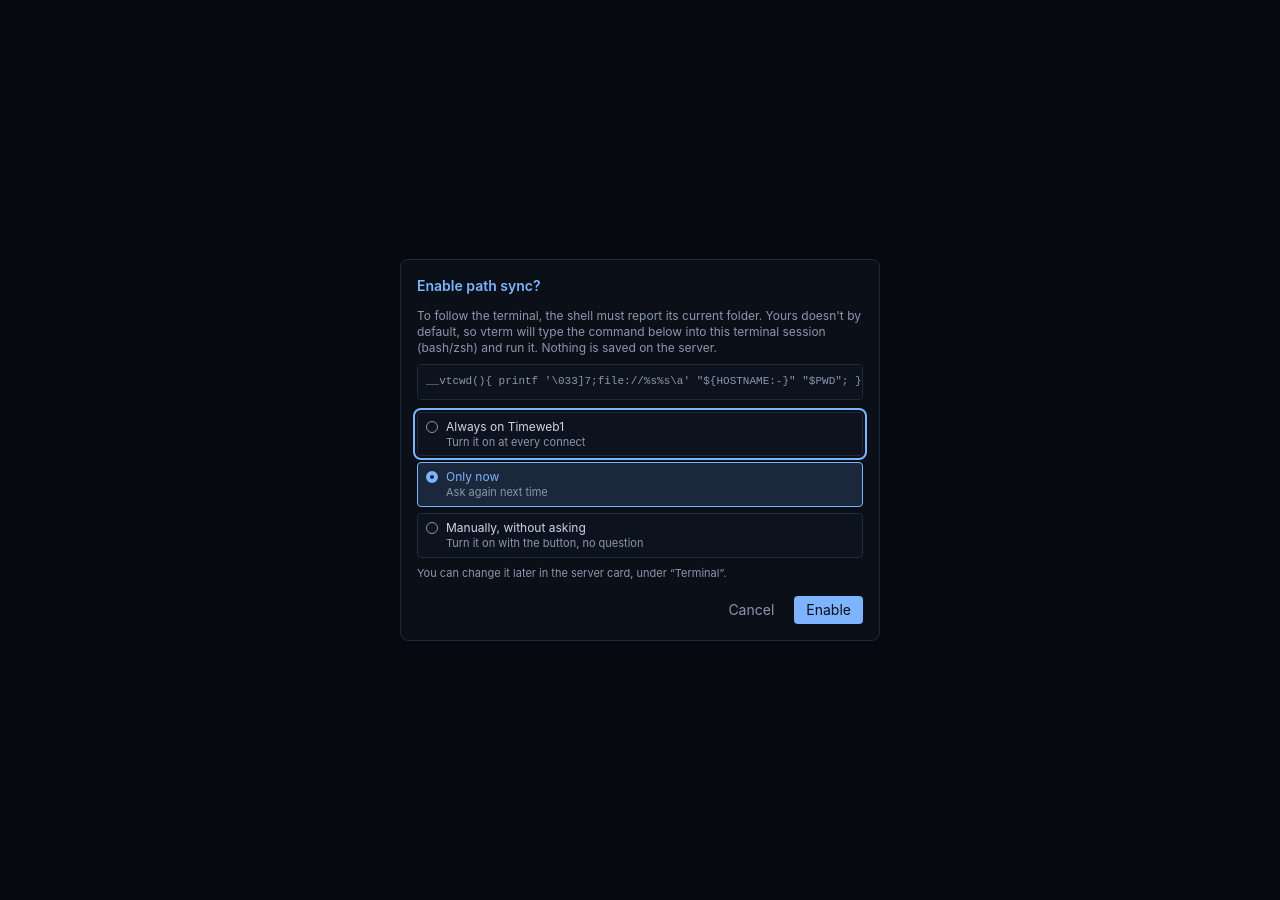
Test: PathSyncDialog › warns on a prod server only for “always”
Click the radio button with test id "path-sync-always". click: (505, 426)
box: [417,412,863,456]
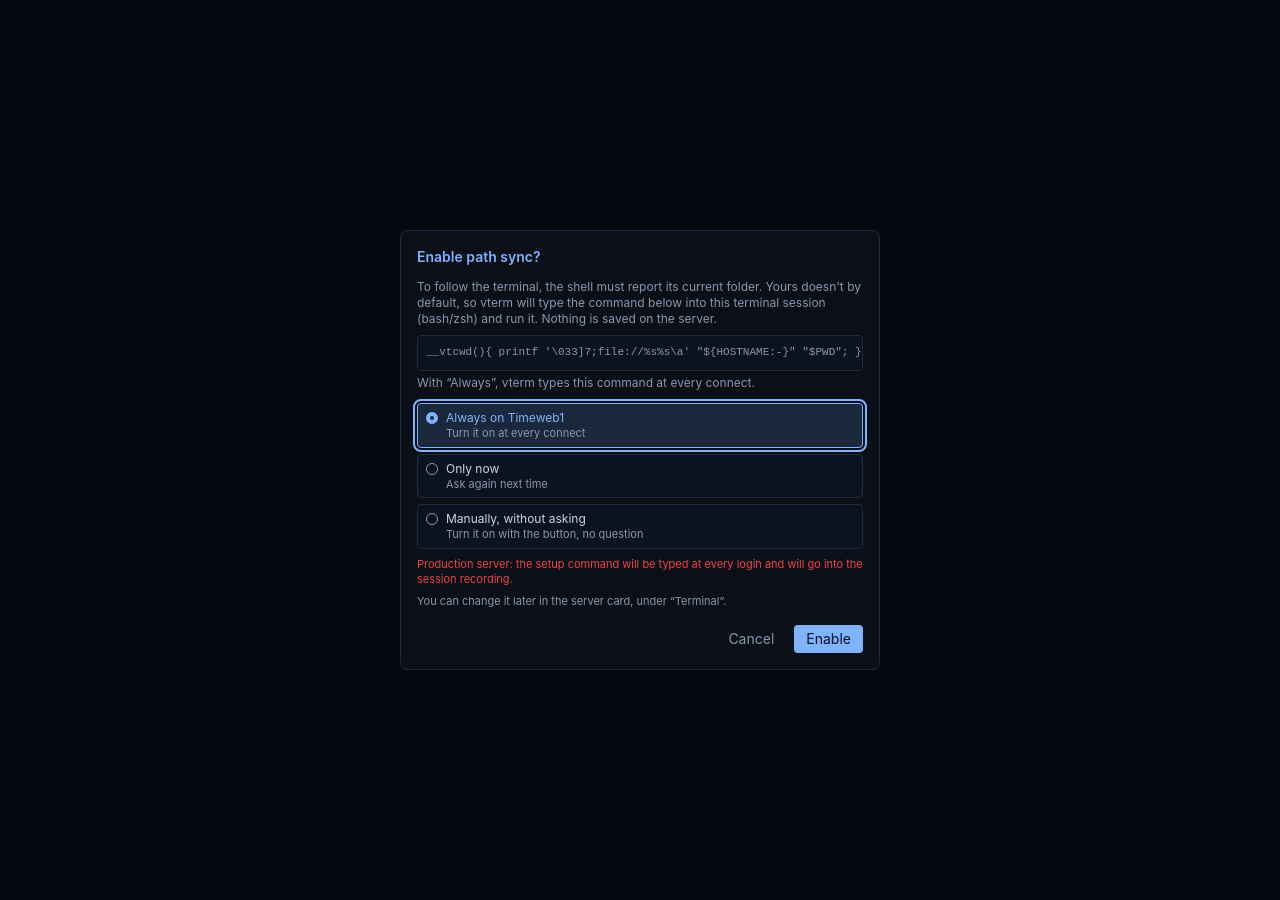
Now the text with test id "path-sync-prod" is shown, box [417,557,863,586]
